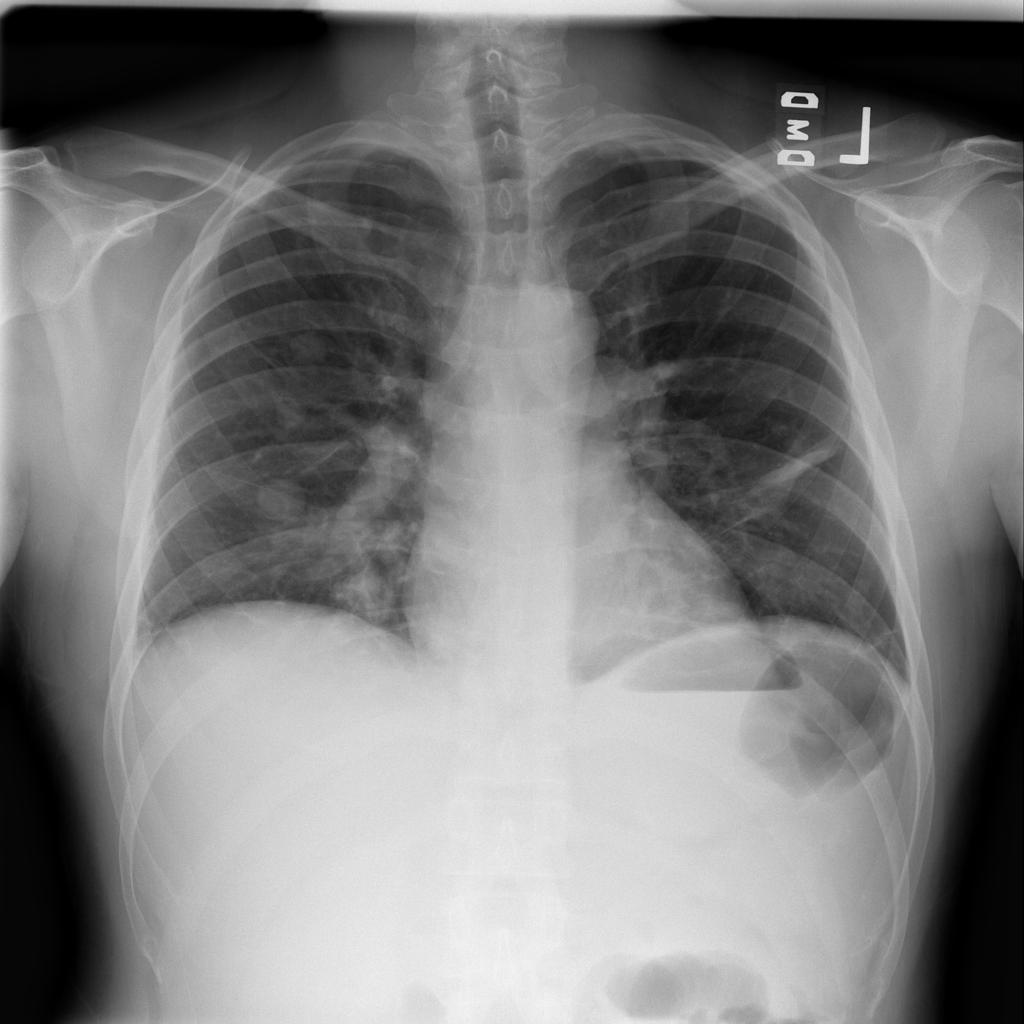nodule: (320, 562, 409, 628), (242, 470, 318, 535), (281, 322, 339, 372)
